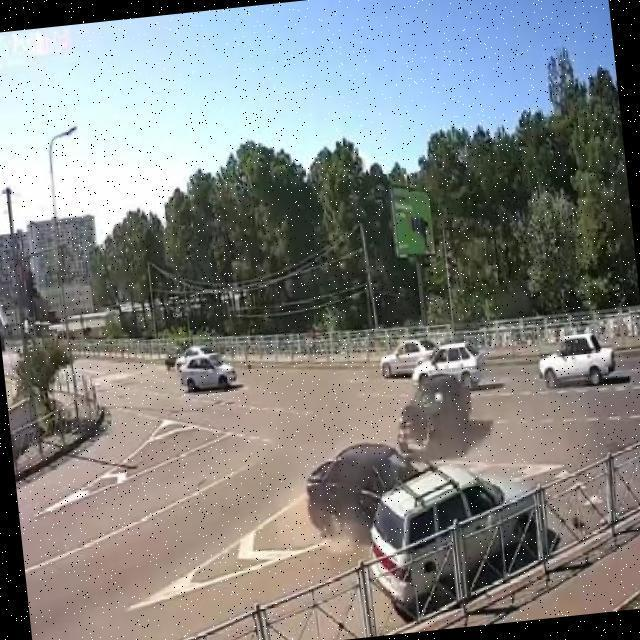accident: (329, 439, 488, 573)
